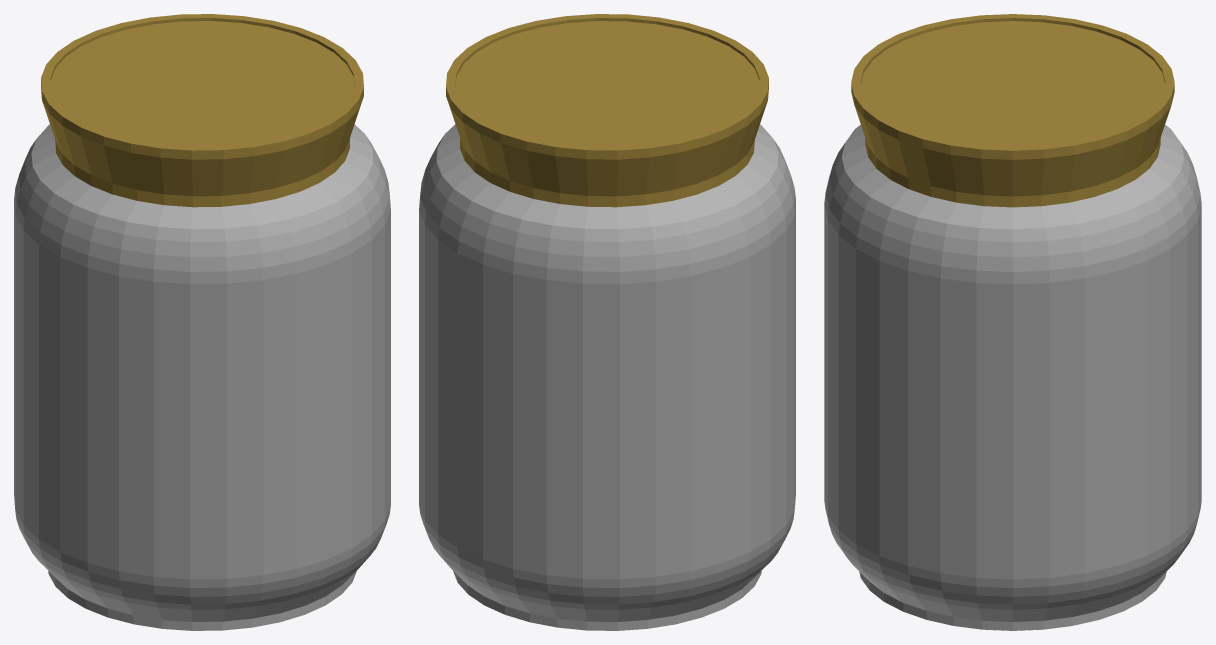
The model's file is JarTotem.fbx.
3 renders of one model, left to right at view 1: azimuth 30°, elevation 25°; view 2: azimuth 150°, elevation 25°; view 3: azimuth 270°, elevation 25°, orthographic.
Visible parts, largest first — view 1: Cylinder; view 2: Cylinder; view 3: Cylinder.
Boxes of the visible parts, left/top/right/bottom form: Cylinder: left=14, top=14, right=390, bottom=630; Cylinder: left=419, top=14, right=795, bottom=630; Cylinder: left=824, top=14, right=1201, bottom=630.
Bounding box in the file's own units: 200 × 282 × 200.
